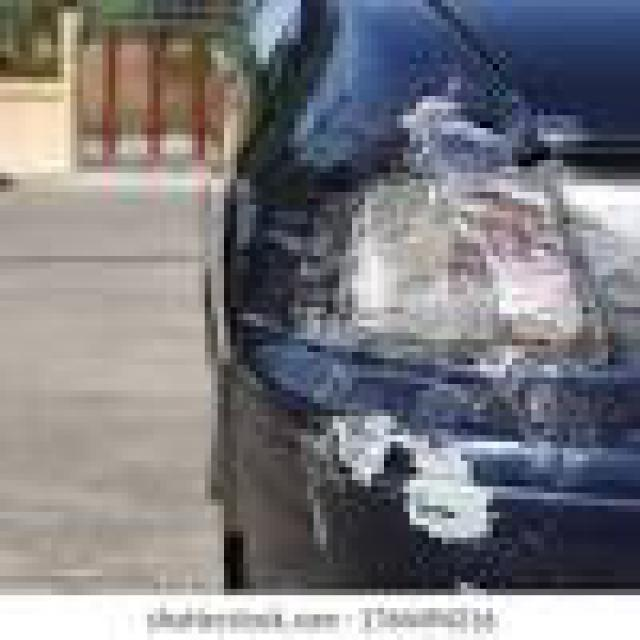Headlight-Damage: (231, 83, 634, 467)
front-bumper-dent: (192, 352, 634, 589)
